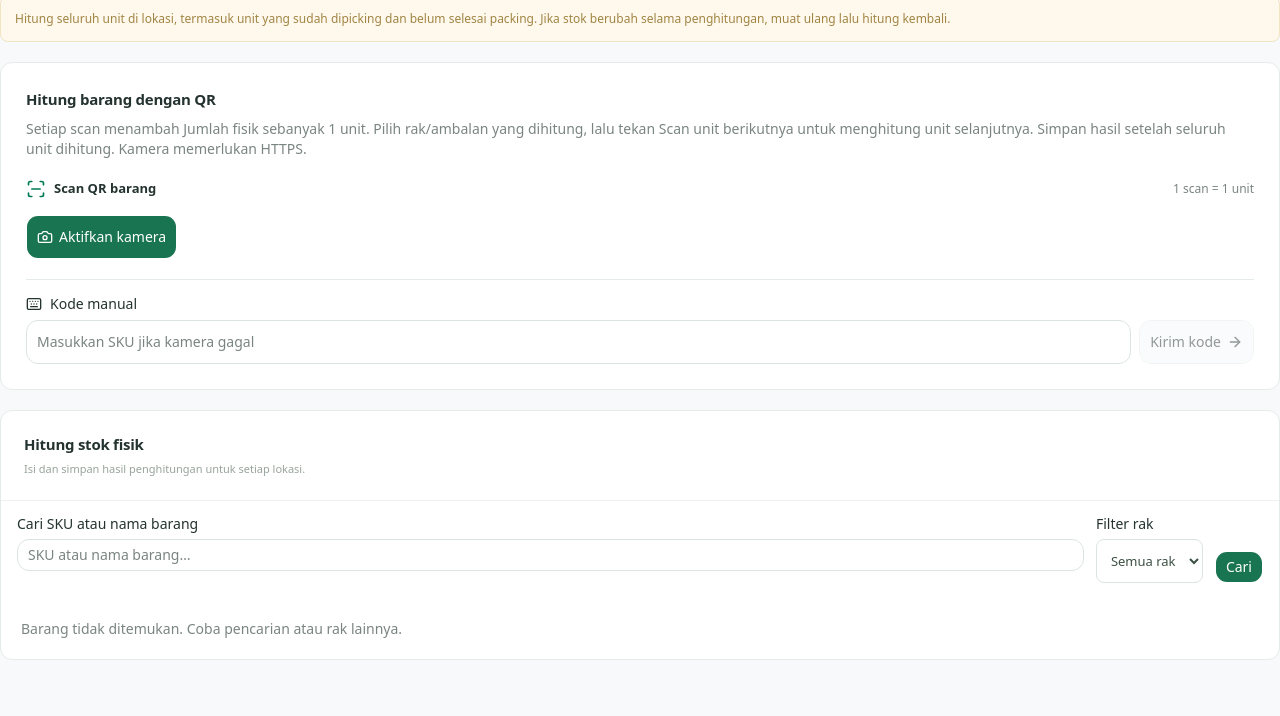
Test: scans fill and increment the physical count including a manually corrected count without clearing notes
Type "COUNT" into the field labelled "Kode manual" at (579, 342), box [26,320,1131,364]
Click the button "Kirim kode" at (1197, 342), box [1139,320,1254,364]
(page scrolled)
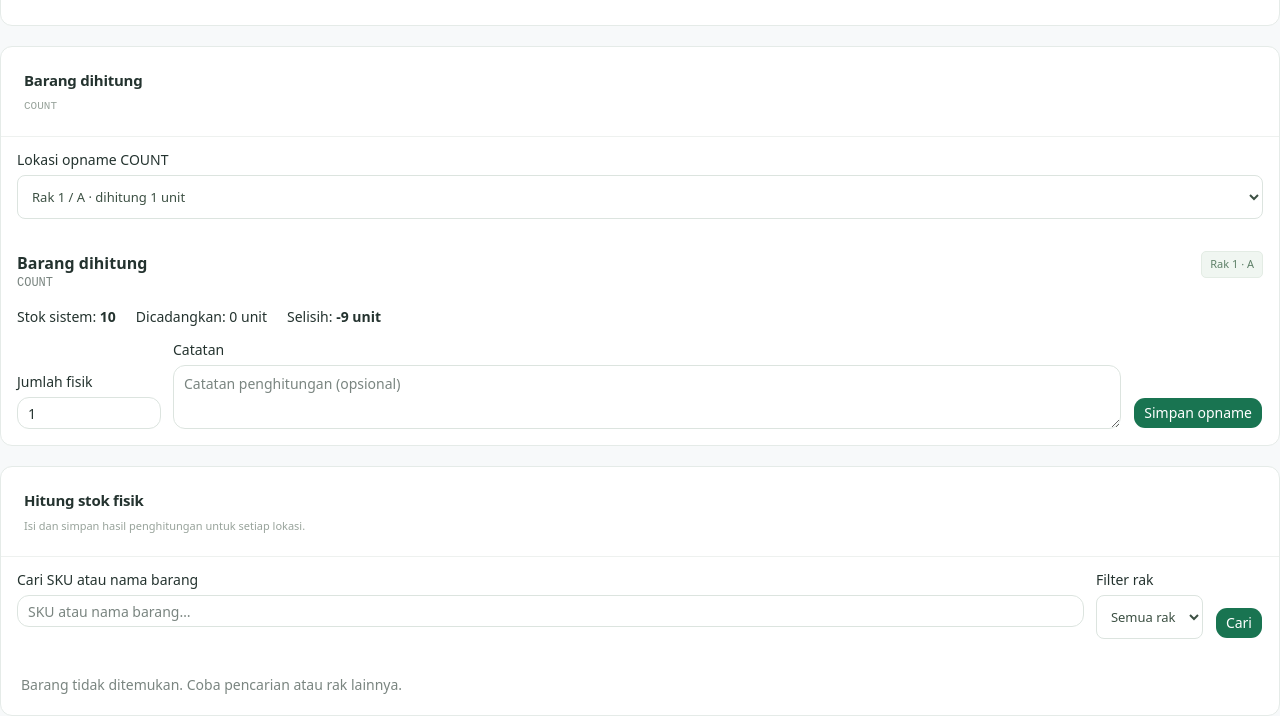
Check: the number field labelled "Jumlah fisik" holds "1", box [17,397,161,429]
Type "Rak diperiksa" into the text box labelled "Catatan" at (647, 397), box [173,365,1121,429]
(page scrolled)
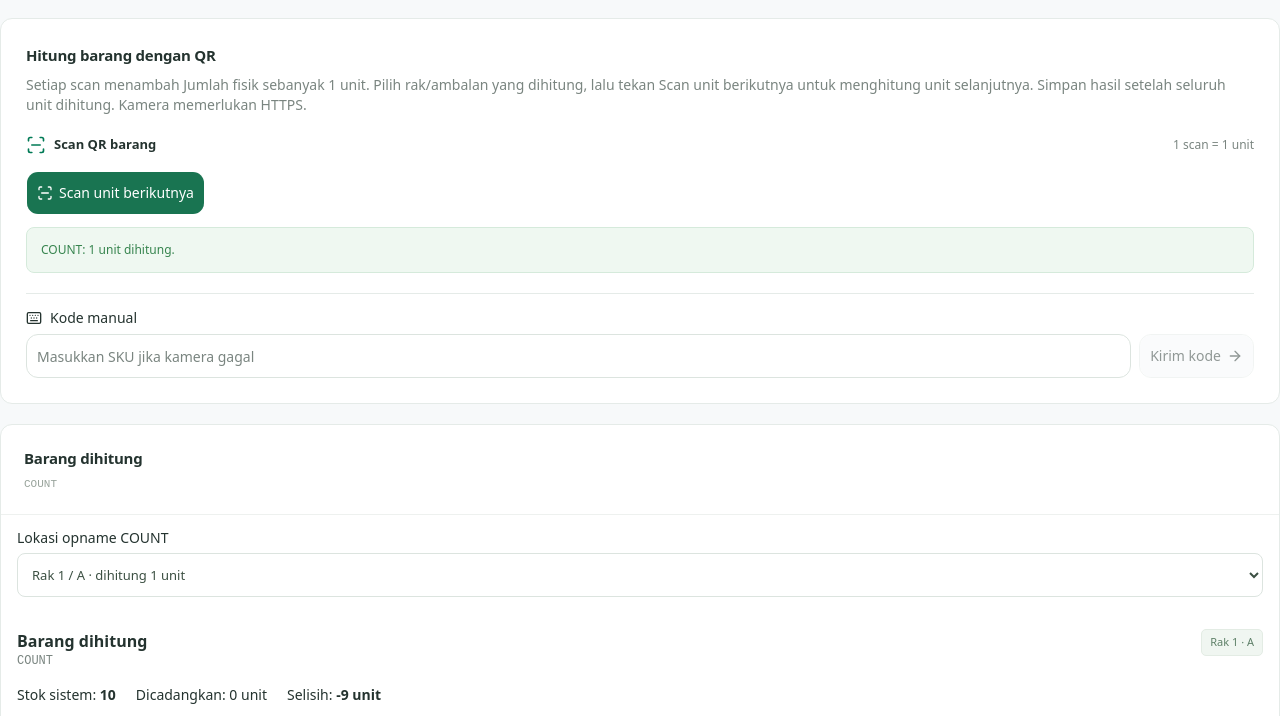
Type "COUNT" into the field labelled "Kode manual" at (579, 356), box [26,334,1131,378]
Click the button "Kirim kode" at (1197, 356), box [1139,334,1254,378]
(page scrolled)
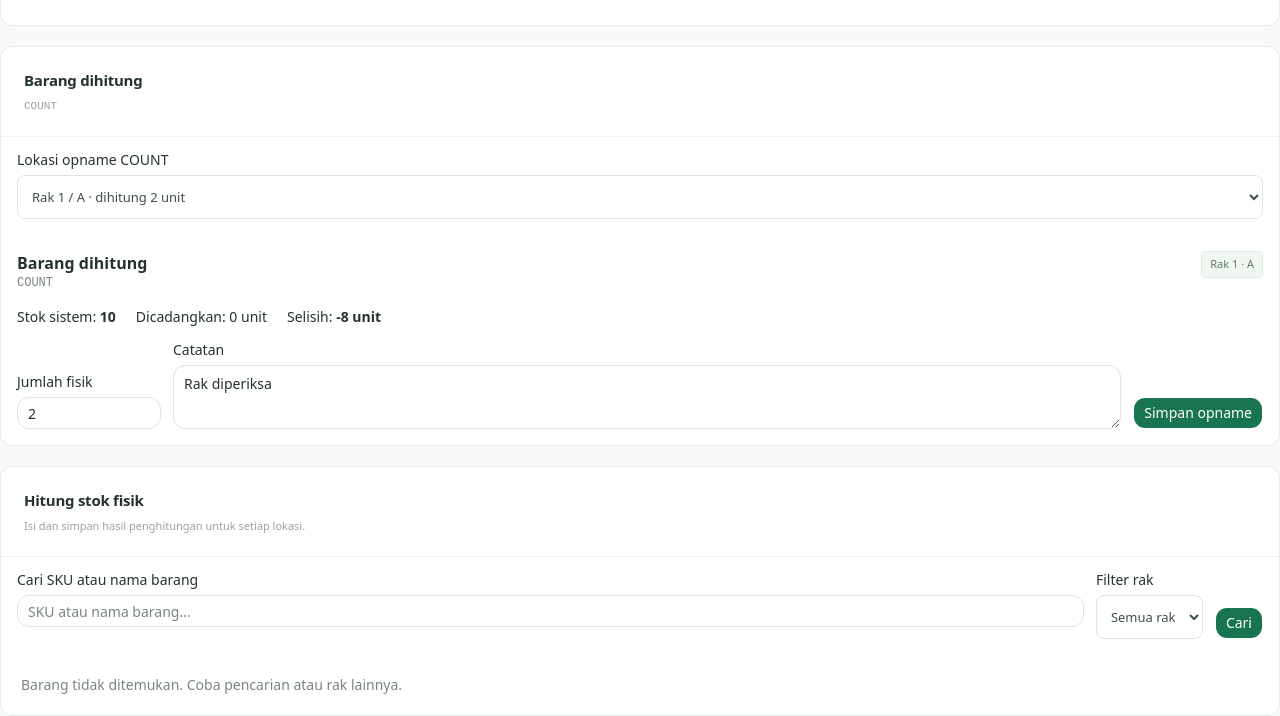
Check: the number field labelled "Jumlah fisik" holds "2"
Replace the text in the number field labelled "Jumlah fisik" with "7" at (89, 413), box [17,397,161,429]
(page scrolled)
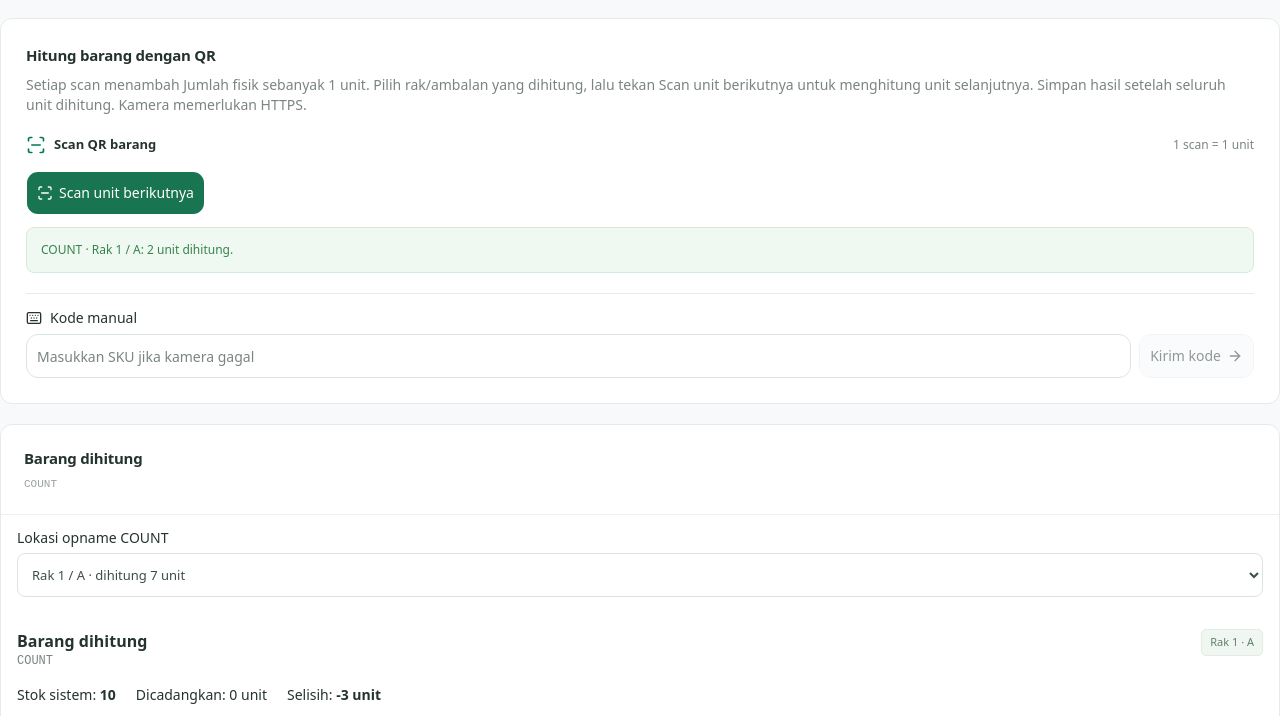
Type "COUNT" into the field labelled "Kode manual" at (579, 356), box [26,334,1131,378]
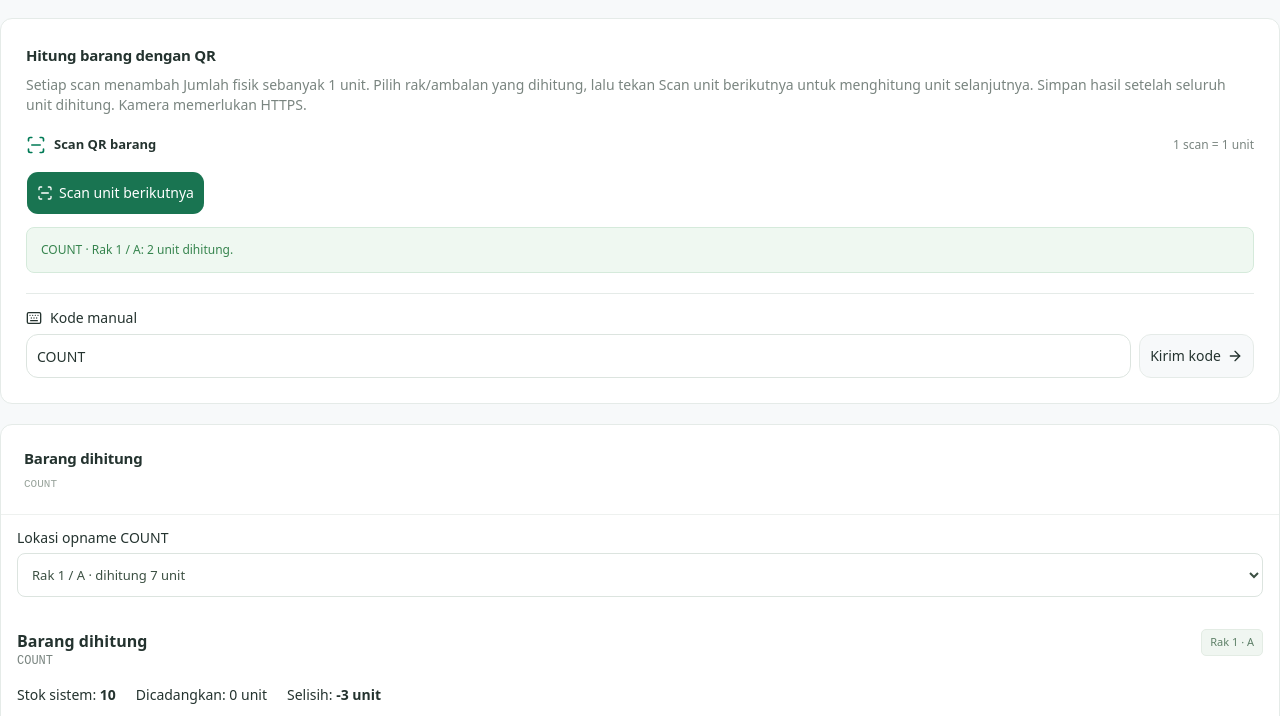
Click the button "Kirim kode" at (1197, 356), box [1139,334,1254,378]
(page scrolled)
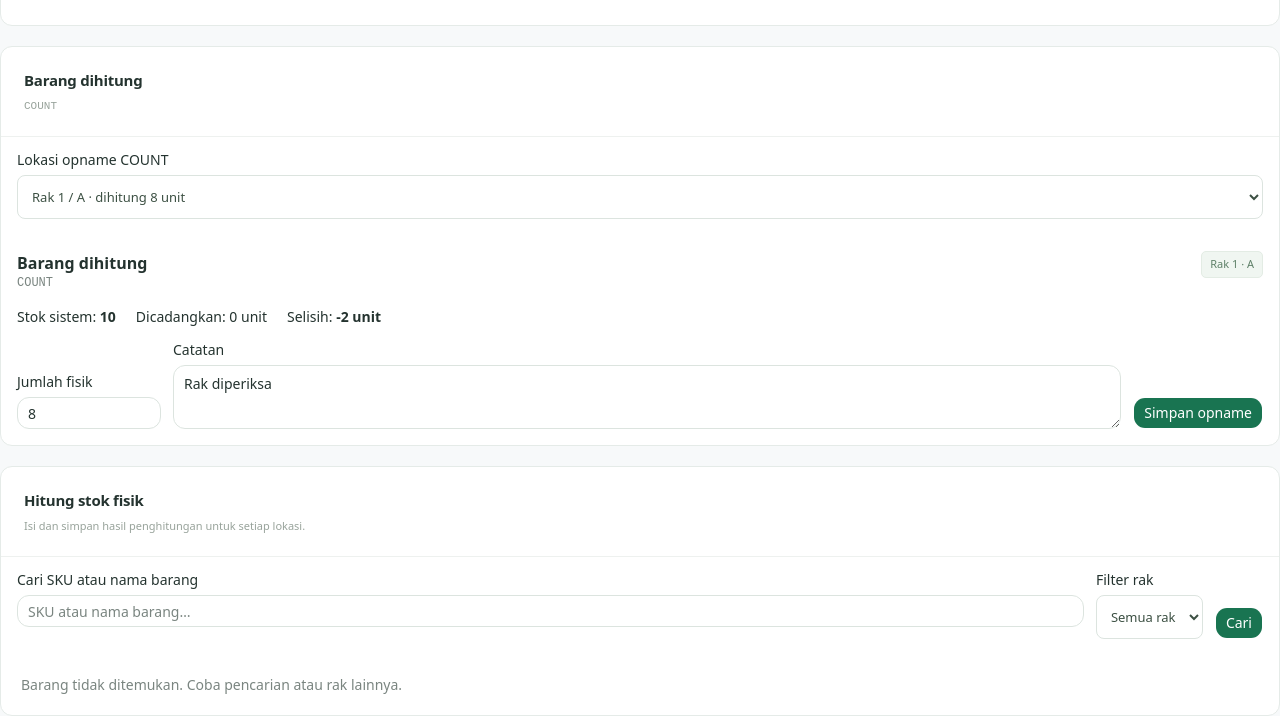
Check: the number field labelled "Jumlah fisik" holds "8", box [17,397,161,429]
